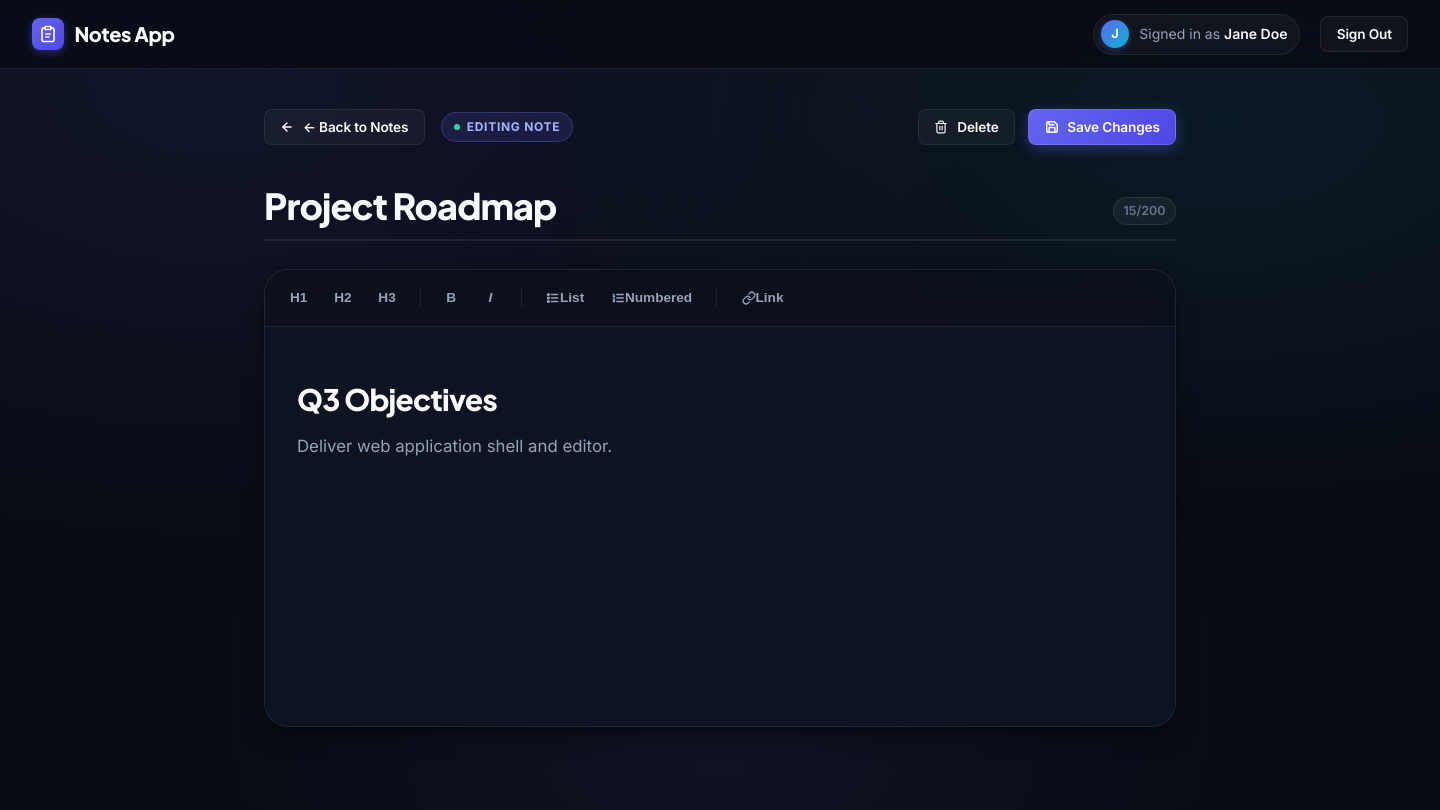
Test: Rich Text Note Editor Feature › handles backdrop click and focus trap navigation in delete modal
The width and height of the screenshot is (1440, 810).
Click the button with test id "delete-note-button".
click(967, 127)  # box [918,109,1015,145]
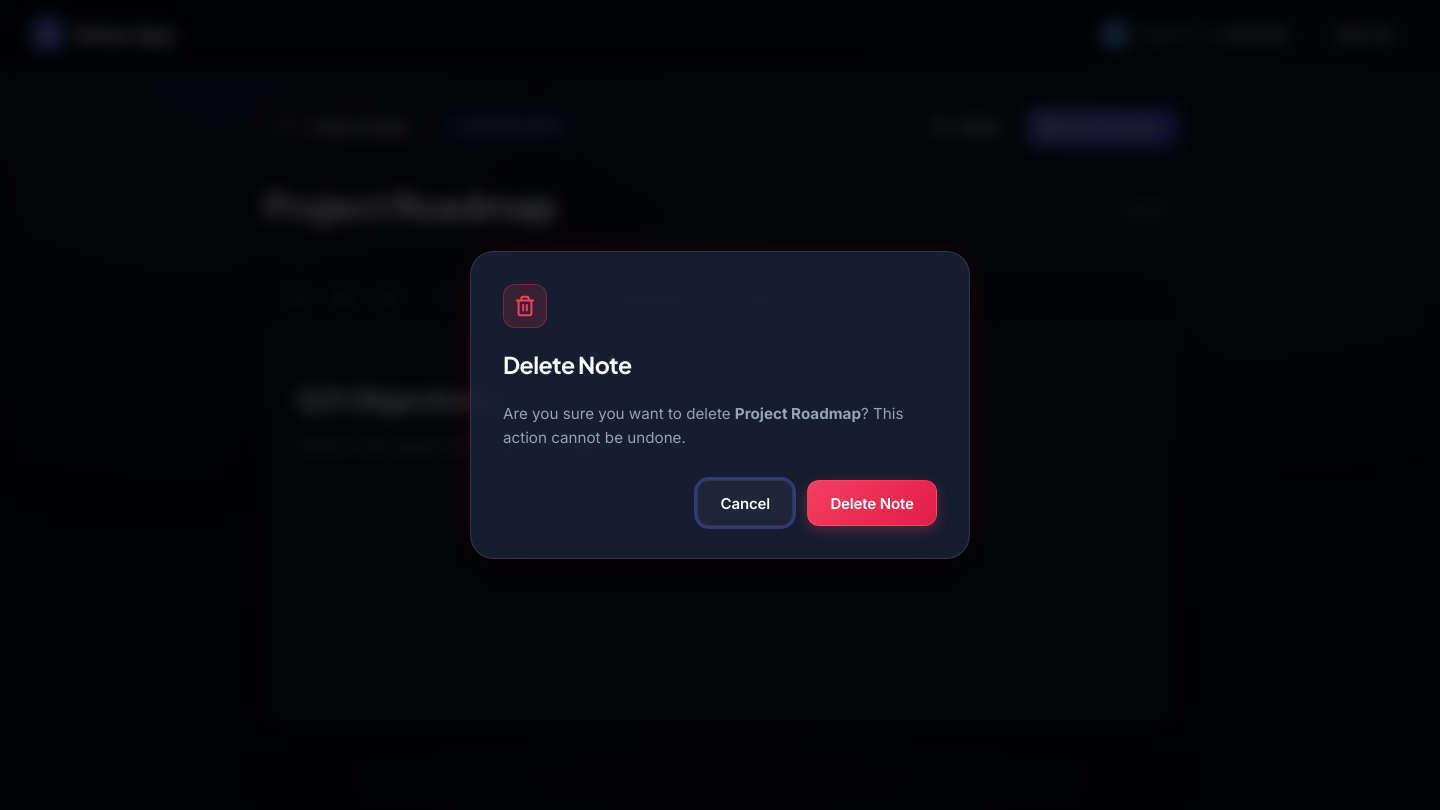
Check: the dialog with test id "delete-confirm-modal" is shown, box [470,251,970,559]
Press Tab
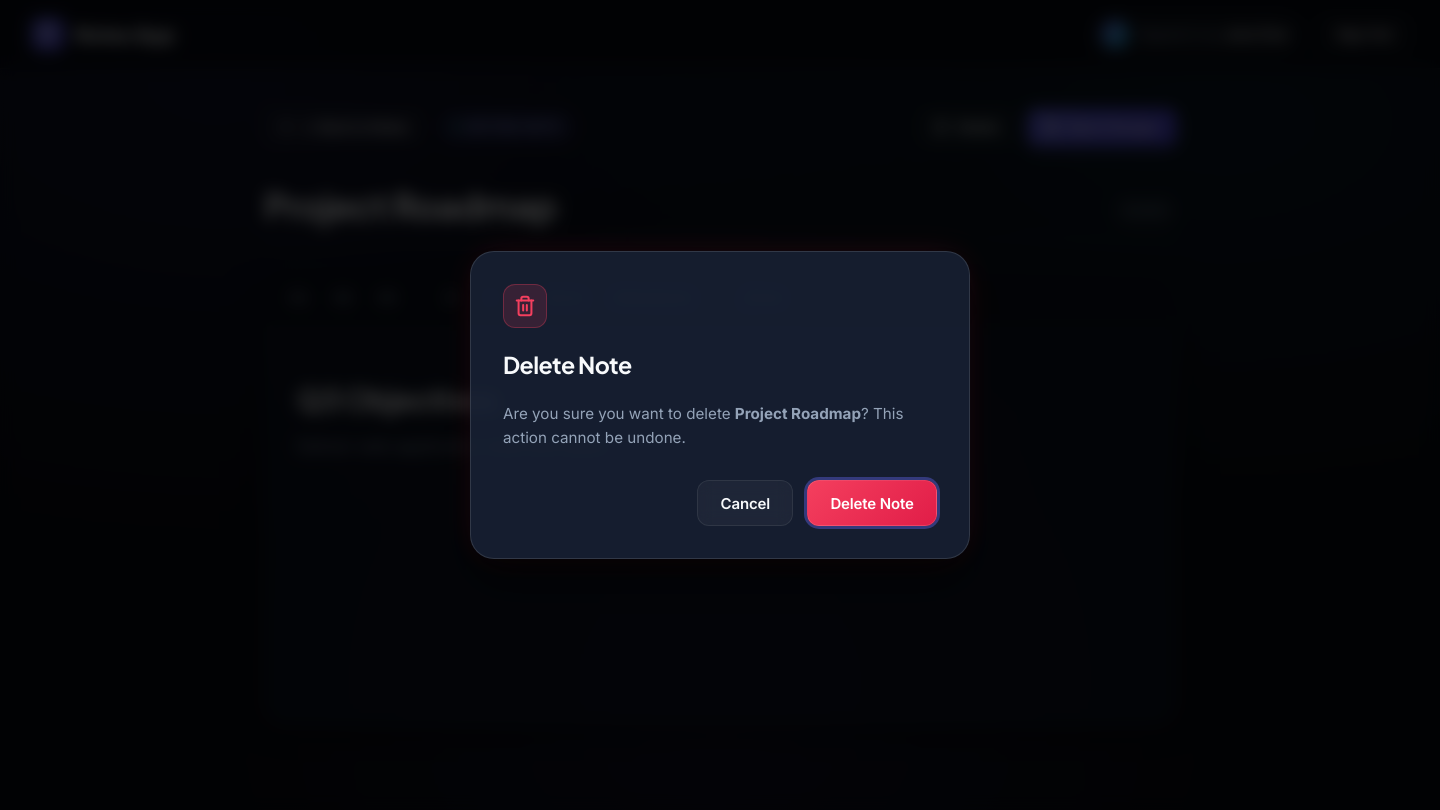
Press Tab
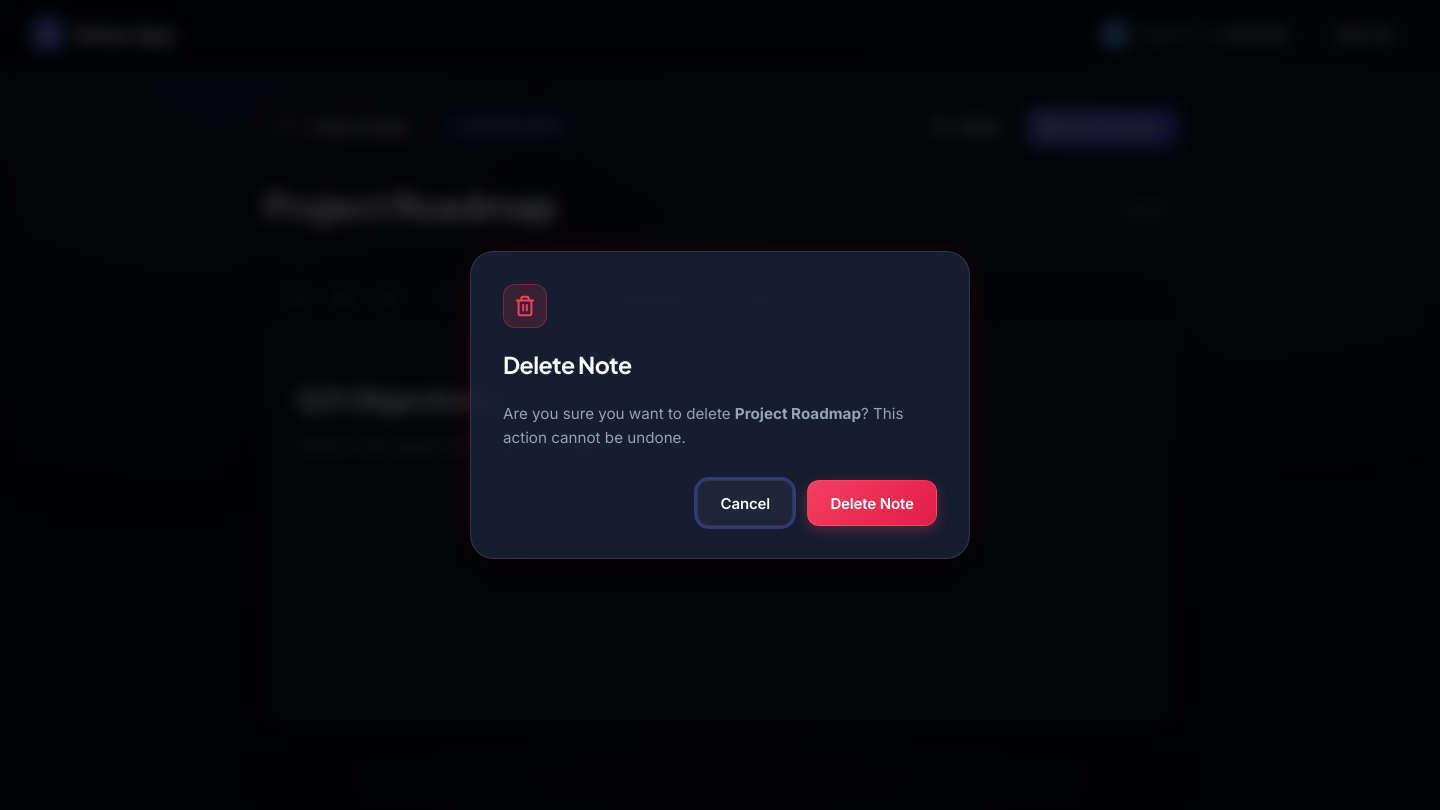
Press Shift+Tab
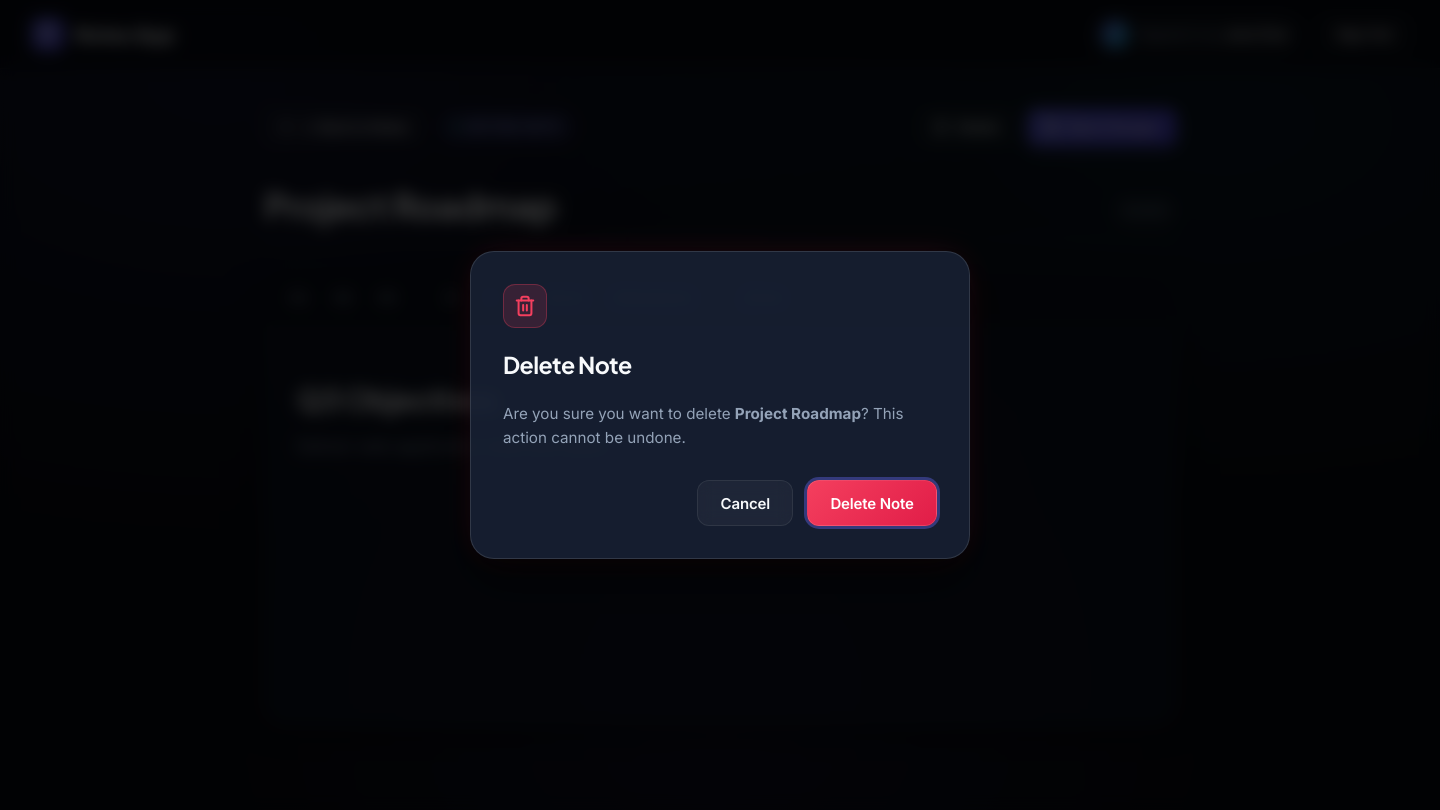
Click the element with test id "modal-backdrop".
click(86, 405)  # box [0,0,1439,809]
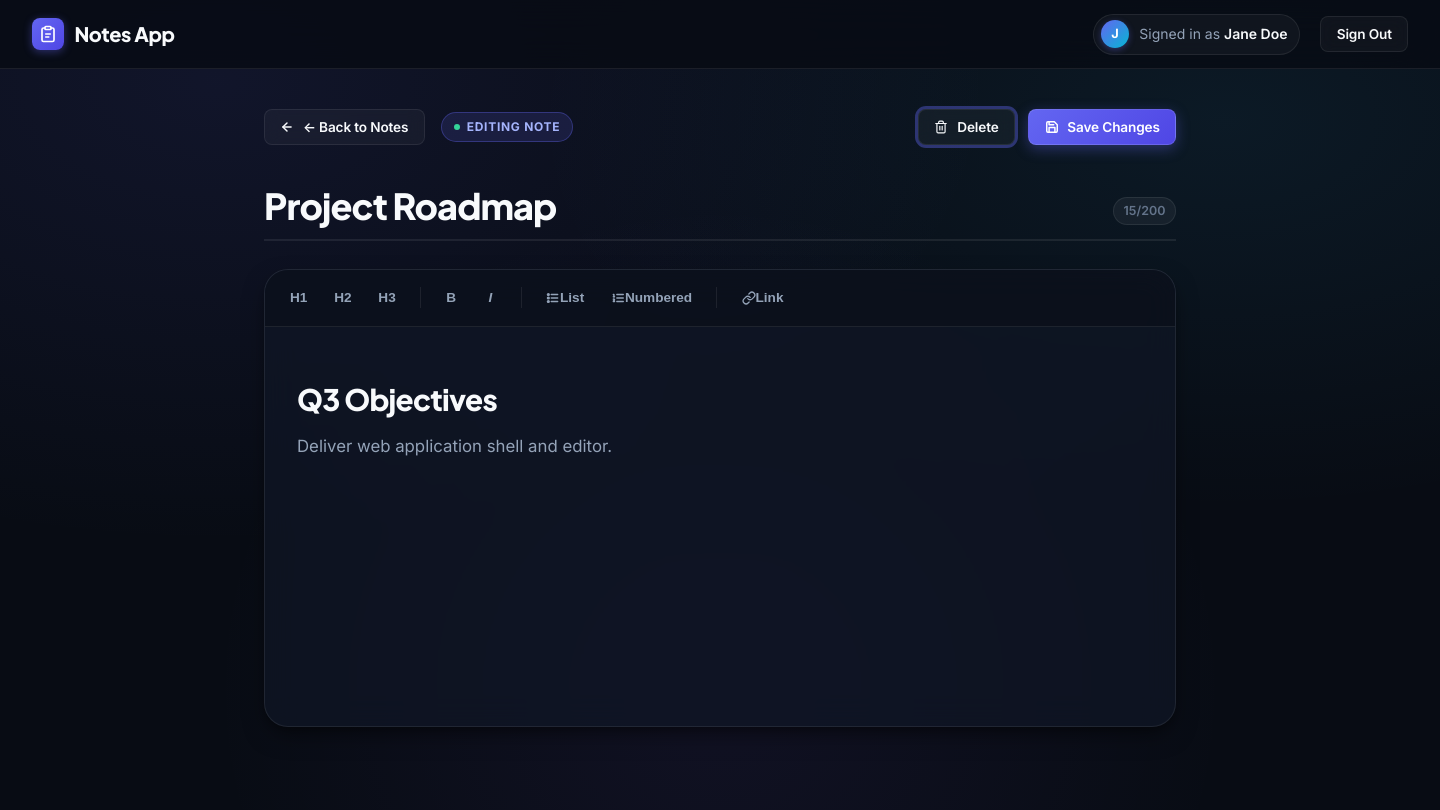
Check: the dialog with test id "delete-confirm-modal" is gone
